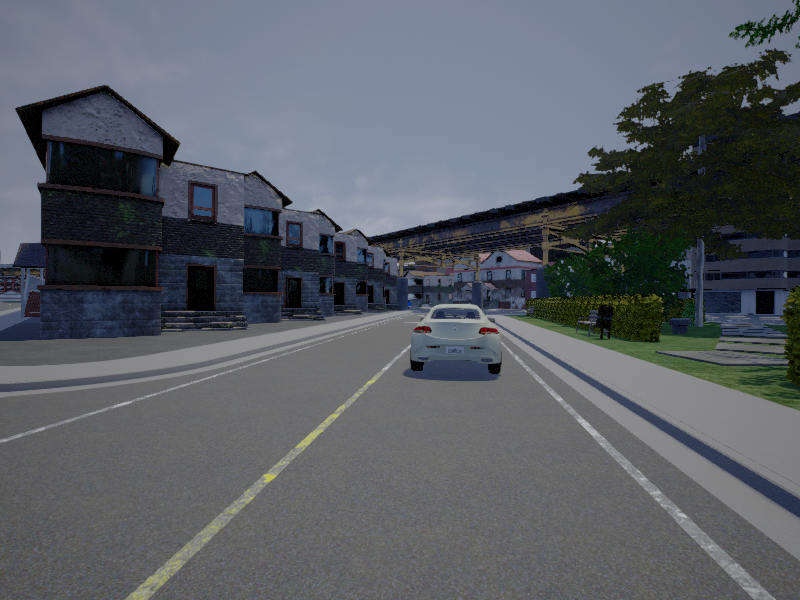Benign: (413, 303, 501, 377)
